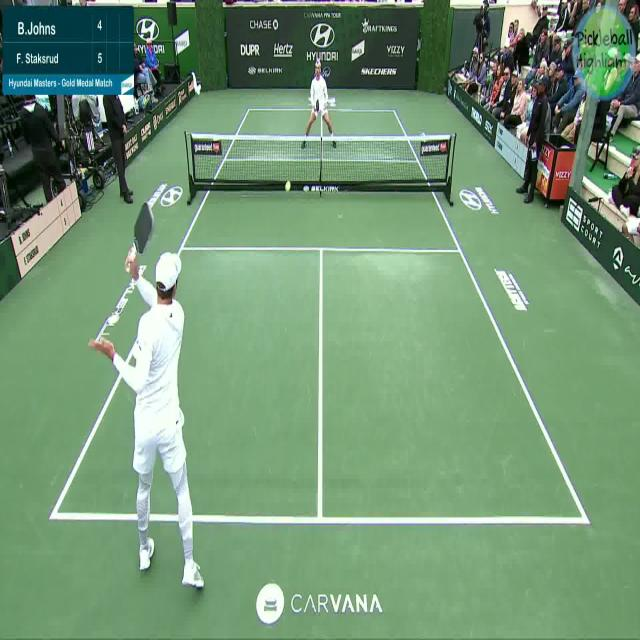Court: (53, 109, 587, 520)
ball: (280, 175, 293, 196)
